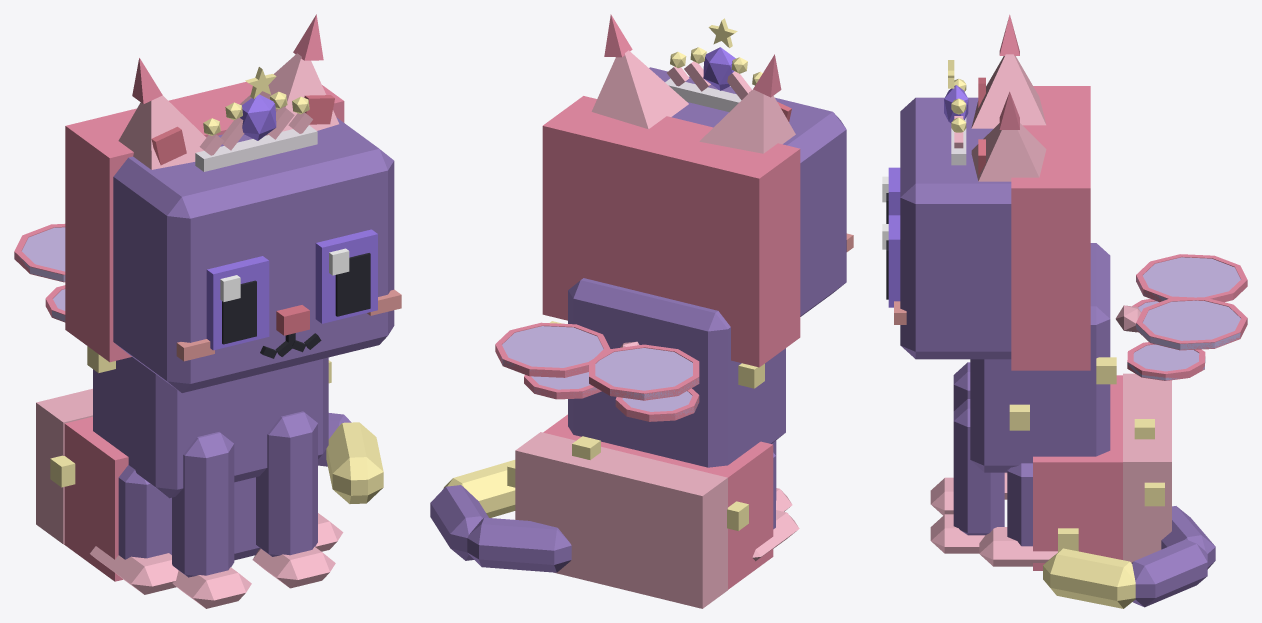
The model's file is CatCafe_Cat_SugarPlum_Sit.glb.
3 renders of one model, left to right at view 1: azimuth 30°, elevation 25°; view 2: azimuth 150°, elevation 25°; view 3: azimuth 270°, elevation 25°, orthographic. The views are drawn at different scales.
Parts seen in each view (by area): view 1: CatCafe_Cat_SugarPlum_Sit_Head, CatCafe_Cat_SugarPlum_Sit_Body, CatCafe_Cat_SugarPlum_Sit_LegF2, CatCafe_Cat_SugarPlum_Sit_LegF1, CatCafe_Cat_SugarPlum_Sit_Eye2, CatCafe_Cat_SugarPlum_Sit_Eye1, CatCafe_Cat_SugarPlum_Sit_EarR, CatCafe_Cat_SugarPlum_Sit_Prop, CatCafe_Cat_SugarPlum_Sit_Tail, CatCafe_Cat_SugarPlum_Sit_EarL, CatCafe_Cat_SugarPlum_Sit_Prop2, CatCafe_Cat_SugarPlum_Sit_Gem_Glow (+1 smaller); view 2: CatCafe_Cat_SugarPlum_Sit_Head, CatCafe_Cat_SugarPlum_Sit_Body, CatCafe_Cat_SugarPlum_Sit_Tail, CatCafe_Cat_SugarPlum_Sit_Prop2, CatCafe_Cat_SugarPlum_Sit_Wings_Glow, CatCafe_Cat_SugarPlum_Sit_EarL, CatCafe_Cat_SugarPlum_Sit_EarR, CatCafe_Cat_SugarPlum_Sit_Prop, CatCafe_Cat_SugarPlum_Sit_Gem_Glow; view 3: CatCafe_Cat_SugarPlum_Sit_Head, CatCafe_Cat_SugarPlum_Sit_Body, CatCafe_Cat_SugarPlum_Sit_Prop2, CatCafe_Cat_SugarPlum_Sit_Tail, CatCafe_Cat_SugarPlum_Sit_LegF1, CatCafe_Cat_SugarPlum_Sit_Wings_Glow, CatCafe_Cat_SugarPlum_Sit_EarL, CatCafe_Cat_SugarPlum_Sit_EarR, CatCafe_Cat_SugarPlum_Sit_Eye1, CatCafe_Cat_SugarPlum_Sit_LegF2, CatCafe_Cat_SugarPlum_Sit_Prop, CatCafe_Cat_SugarPlum_Sit_Eye2 (+1 smaller).
Part boxes in pixels (x1,y1,x2,y2): CatCafe_Cat_SugarPlum_Sit_Head: (65, 82, 401, 392); CatCafe_Cat_SugarPlum_Sit_Body: (36, 346, 343, 594); CatCafe_Cat_SugarPlum_Sit_LegF2: (172, 432, 251, 608); CatCafe_Cat_SugarPlum_Sit_LegF1: (252, 411, 335, 588); CatCafe_Cat_SugarPlum_Sit_Eye2: (206, 256, 269, 350); CatCafe_Cat_SugarPlum_Sit_Eye1: (315, 229, 377, 323); CatCafe_Cat_SugarPlum_Sit_EarR: (118, 58, 206, 169); CatCafe_Cat_SugarPlum_Sit_Prop: (195, 91, 317, 171); CatCafe_Cat_SugarPlum_Sit_Tail: (318, 413, 383, 503); CatCafe_Cat_SugarPlum_Sit_EarL: (239, 14, 338, 135); CatCafe_Cat_SugarPlum_Sit_Prop2: (14, 227, 65, 321); CatCafe_Cat_SugarPlum_Sit_Gem_Glow: (240, 67, 276, 140); CatCafe_Cat_SugarPlum_Sit_Head: (542, 67, 853, 367); CatCafe_Cat_SugarPlum_Sit_Body: (507, 278, 799, 608); CatCafe_Cat_SugarPlum_Sit_Tail: (430, 460, 571, 572); CatCafe_Cat_SugarPlum_Sit_Prop2: (501, 326, 699, 420); CatCafe_Cat_SugarPlum_Sit_Wings_Glow: (495, 322, 699, 421); CatCafe_Cat_SugarPlum_Sit_EarL: (591, 14, 688, 129); CatCafe_Cat_SugarPlum_Sit_EarR: (699, 54, 795, 153); CatCafe_Cat_SugarPlum_Sit_Prop: (665, 47, 762, 112); CatCafe_Cat_SugarPlum_Sit_Gem_Glow: (703, 18, 737, 90); CatCafe_Cat_SugarPlum_Sit_Head: (894, 86, 1090, 370); CatCafe_Cat_SugarPlum_Sit_Body: (970, 243, 1171, 570); CatCafe_Cat_SugarPlum_Sit_Prop2: (1115, 257, 1240, 380); CatCafe_Cat_SugarPlum_Sit_Tail: (1043, 506, 1215, 608); CatCafe_Cat_SugarPlum_Sit_LegF1: (930, 399, 1004, 553); CatCafe_Cat_SugarPlum_Sit_Wings_Glow: (1127, 254, 1247, 380); CatCafe_Cat_SugarPlum_Sit_EarL: (971, 91, 1046, 181); CatCafe_Cat_SugarPlum_Sit_EarR: (971, 14, 1046, 128); CatCafe_Cat_SugarPlum_Sit_Eye1: (882, 215, 900, 307); CatCafe_Cat_SugarPlum_Sit_LegF2: (930, 362, 970, 515); CatCafe_Cat_SugarPlum_Sit_Prop: (951, 78, 966, 165); CatCafe_Cat_SugarPlum_Sit_Eye2: (882, 167, 900, 223).
Bounding box in the file's own units: 1.25 × 1.96 × 1.36.
1 material, 1 textured.
